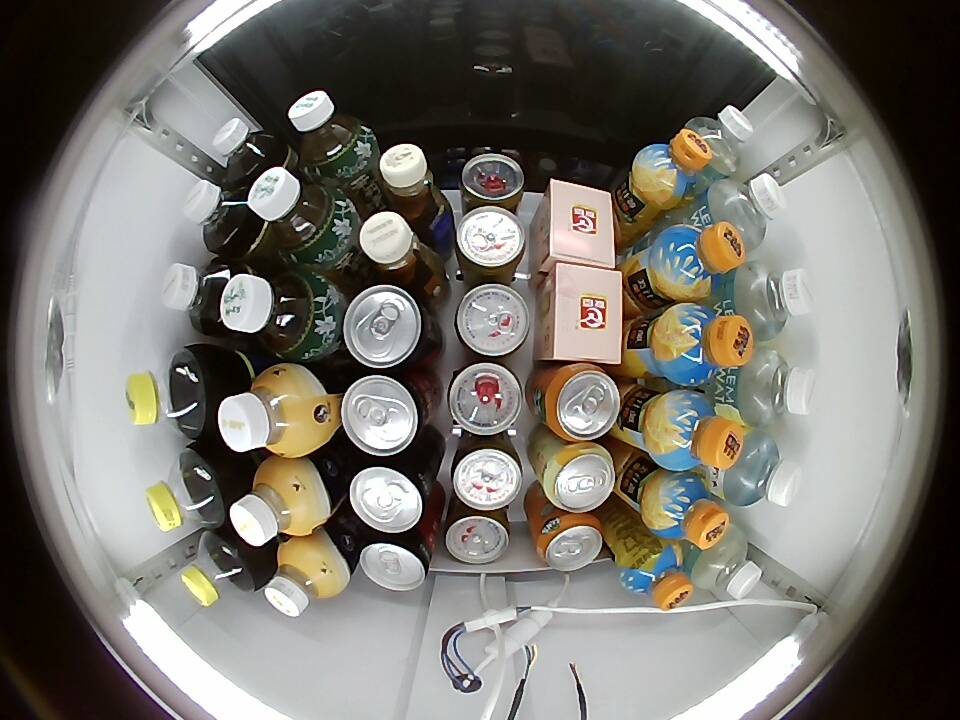asamu: (217, 367, 317, 457), (230, 461, 315, 548), (263, 543, 340, 618)
baishikele: (124, 345, 213, 442), (143, 447, 226, 533), (178, 528, 255, 607)
fenda: (543, 363, 621, 442), (535, 513, 604, 571)
guolicheng: (656, 302, 754, 386), (650, 390, 744, 472), (654, 221, 745, 301), (644, 469, 729, 549), (634, 129, 715, 207), (615, 534, 694, 611)
hongniu: (447, 361, 524, 436), (460, 150, 526, 208)
hongniu2: (455, 283, 532, 359), (455, 205, 526, 281), (451, 437, 523, 510), (443, 506, 512, 566)
kafei: (358, 211, 445, 302), (379, 144, 454, 241)
lingdukele: (342, 284, 437, 371), (339, 371, 435, 457), (345, 457, 434, 535), (360, 528, 433, 592)
mangguoxiaolao: (541, 442, 616, 513)
moliqingcha: (219, 265, 339, 362), (246, 165, 354, 267), (287, 90, 376, 179)
qinningshui: (734, 263, 814, 343), (737, 347, 819, 425), (721, 430, 800, 509), (708, 171, 786, 250), (691, 522, 763, 598), (684, 106, 753, 180)
rousongbing: (537, 261, 625, 364), (532, 178, 620, 271)
wulongcha: (161, 258, 238, 333), (182, 179, 256, 253), (212, 117, 277, 184)
